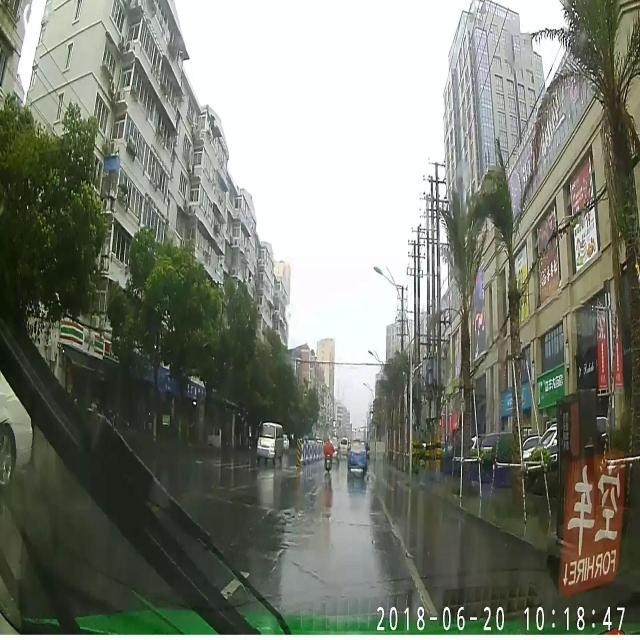car: (0, 372, 33, 484), (255, 421, 282, 464), (346, 438, 368, 478)
